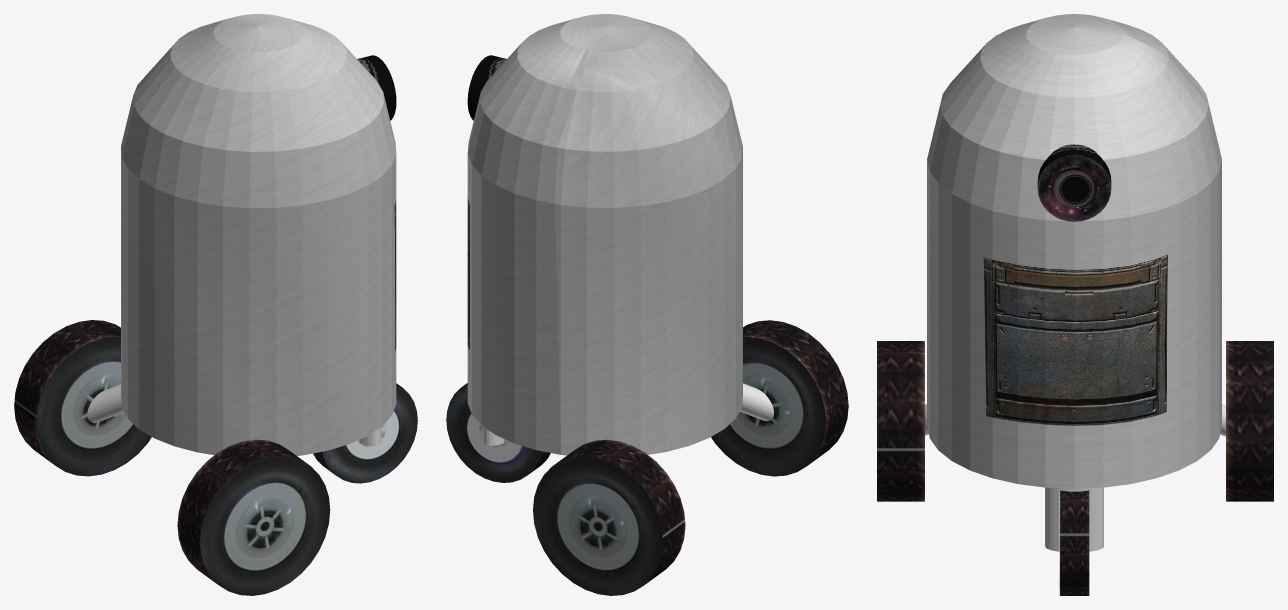
The model's file is wheelbot.dae.
The picture shows the model from 3 angles, left to right: view 1: azimuth 30°, elevation 25°; view 2: azimuth 150°, elevation 25°; view 3: azimuth 270°, elevation 25°; orthographic projection. The views are drawn at different scales.
Visible parts, largest first — view 1: body, backwheel_002, backwheel_001, frontwheel, eye, transmission_001; view 2: body, backwheel_001, backwheel_002, frontwheel, eye, transmission_002; view 3: body, backwheel_001, backwheel_002, eye, frontwheel, control.
Boxes of the visible parts, <box> form: body: <box>121,14,396,455</box>; backwheel_002: <box>177,439,330,595</box>; backwheel_001: <box>14,320,151,476</box>; frontwheel: <box>313,383,417,483</box>; eye: <box>357,55,396,120</box>; transmission_001: <box>87,384,123,422</box>; body: <box>467,14,742,455</box>; backwheel_001: <box>533,439,685,595</box>; backwheel_002: <box>711,320,848,476</box>; frontwheel: <box>446,383,550,482</box>; eye: <box>467,55,506,120</box>; transmission_002: <box>740,383,773,420</box>; body: <box>927,14,1221,488</box>; backwheel_001: <box>1226,341,1273,501</box>; backwheel_002: <box>877,341,924,501</box>; eye: <box>1037,144,1111,221</box>; frontwheel: <box>1059,490,1089,595</box>; control: <box>1045,487,1103,551</box>.
Size of the model in its own units: 5.08 by 5.38 by 7.66.
Materials: 4 (4 with a texture image).
